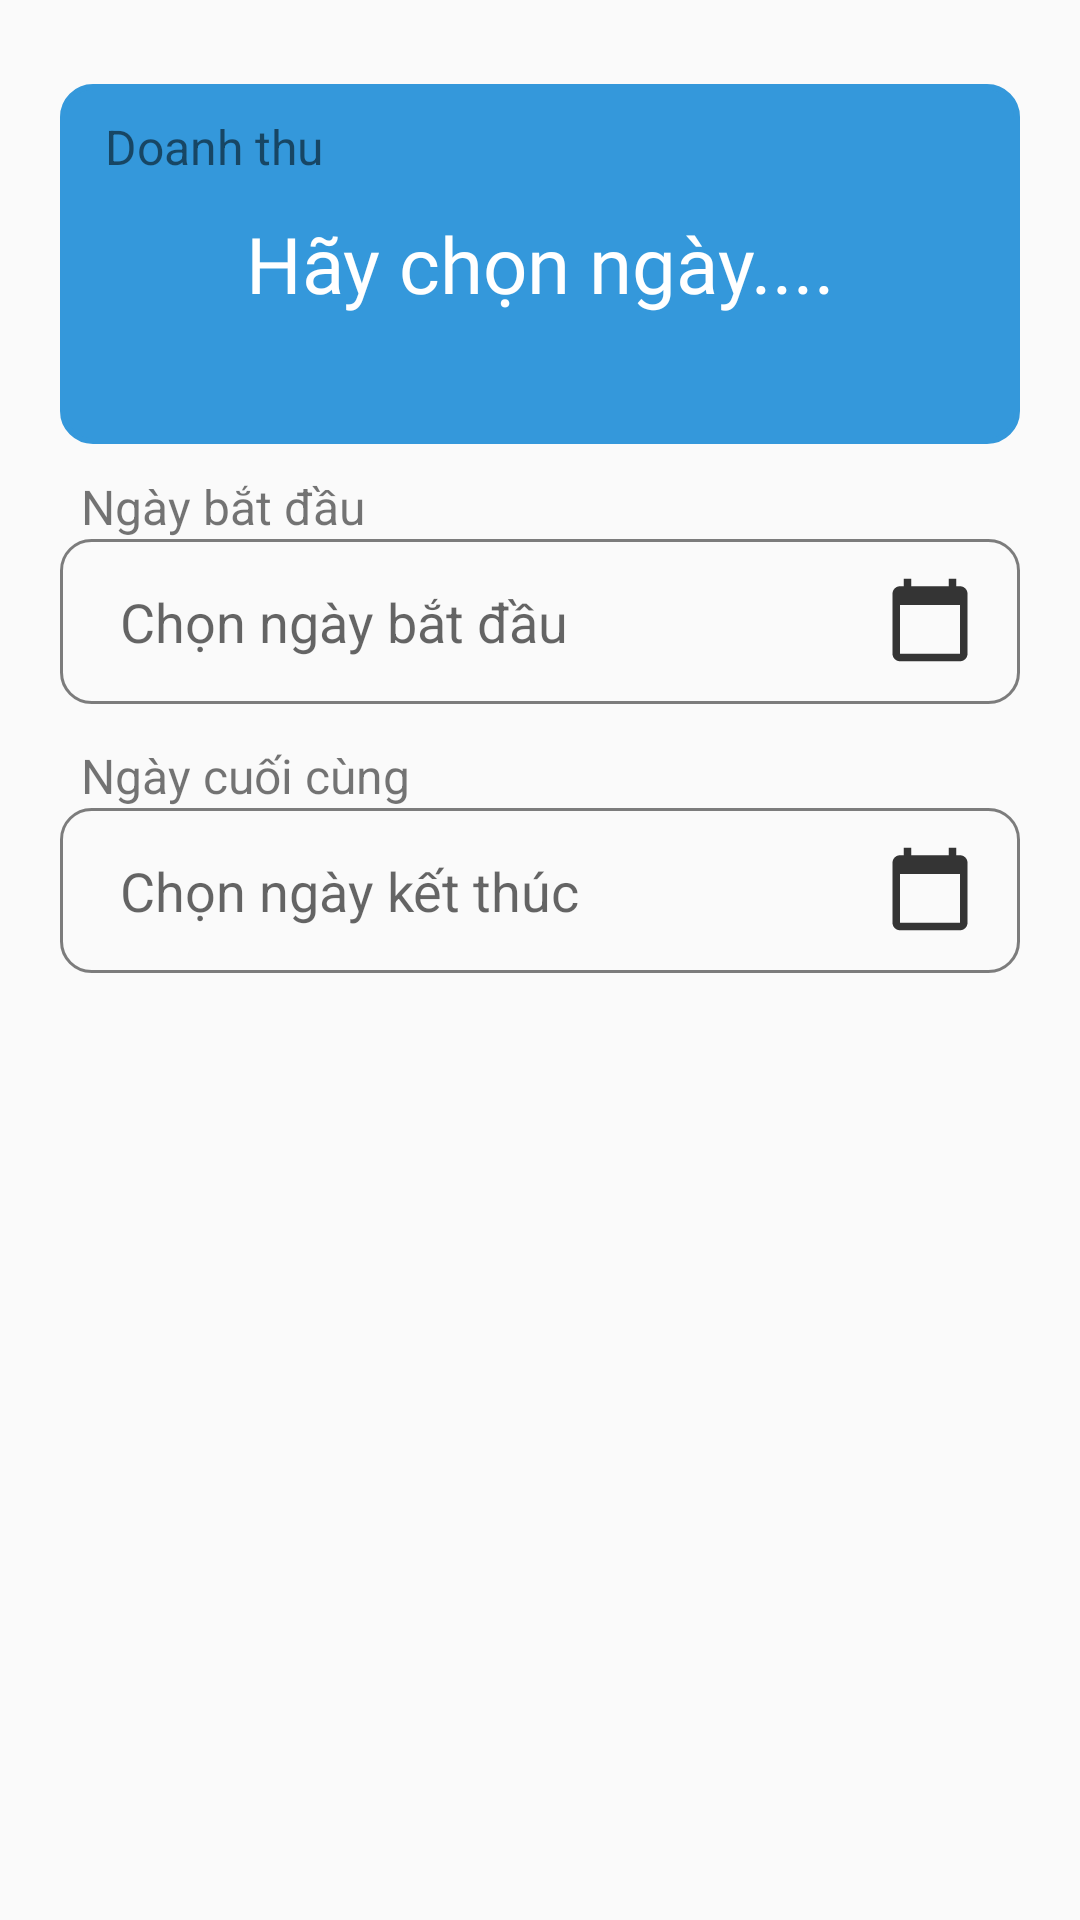

Screen size 1080 × 1920. Icon name, then its center in pixels as (x=x, y=y):
calender: (x=930, y=620), (x=930, y=889)
